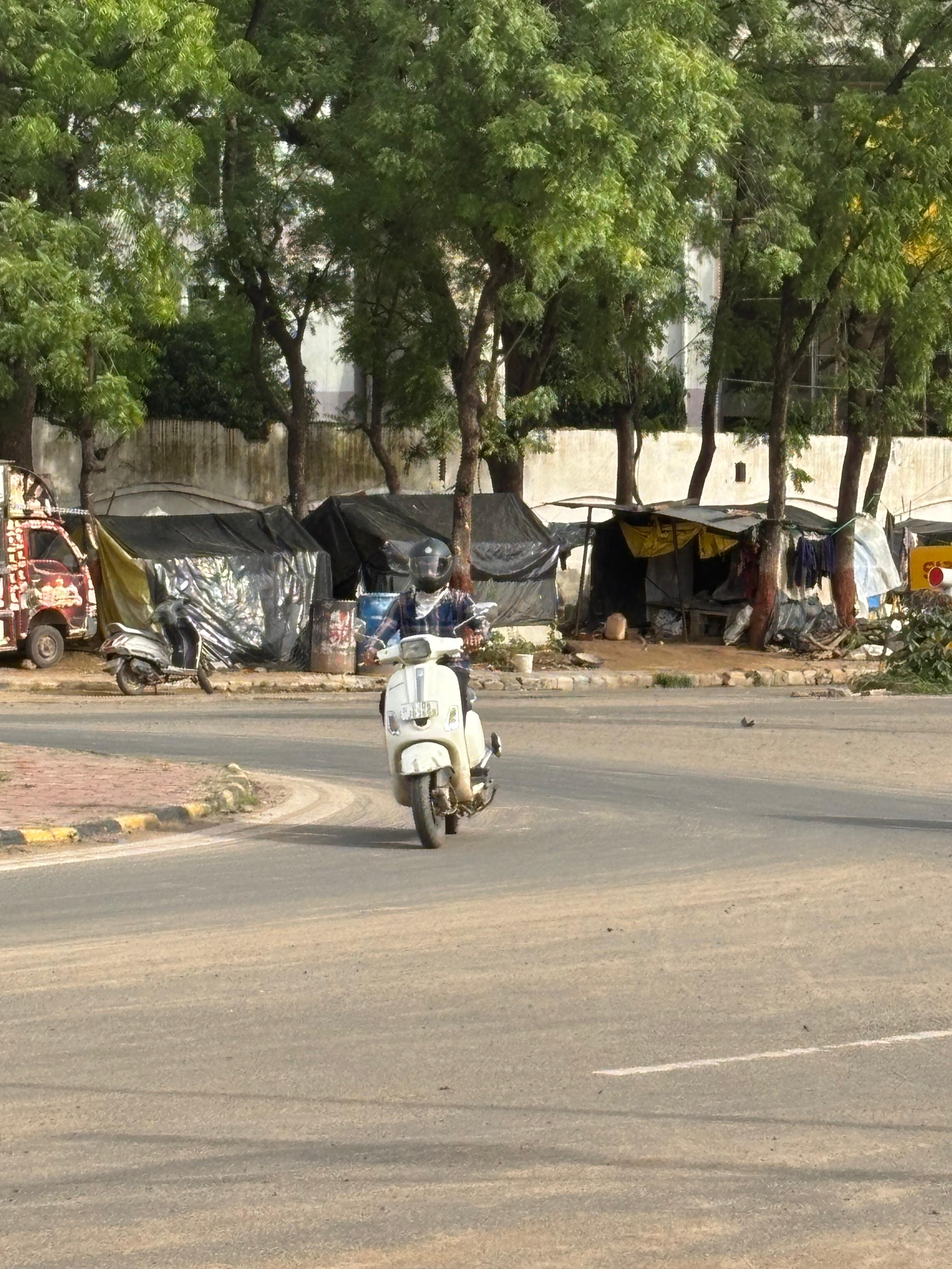BikeWithRider: (351, 528, 514, 853)
Helmet: (400, 532, 459, 596)
